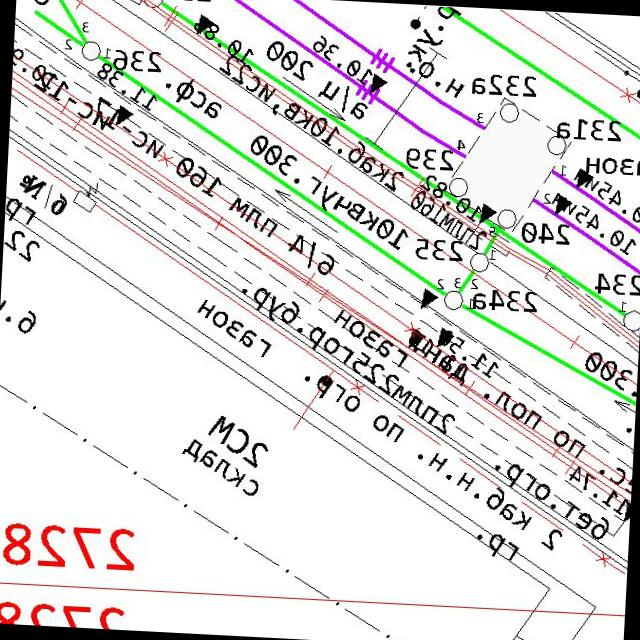asphalt: (163, 76, 224, 120)
mark: (370, 72, 390, 96), (554, 193, 574, 217), (478, 202, 498, 226), (420, 286, 440, 310), (408, 326, 428, 349), (436, 325, 455, 349), (197, 13, 216, 36), (576, 167, 595, 189), (116, 104, 134, 127)
well: (447, 175, 471, 199), (442, 288, 466, 312), (80, 39, 104, 63), (468, 251, 491, 275), (546, 133, 568, 157), (496, 207, 518, 231), (498, 102, 520, 125)
